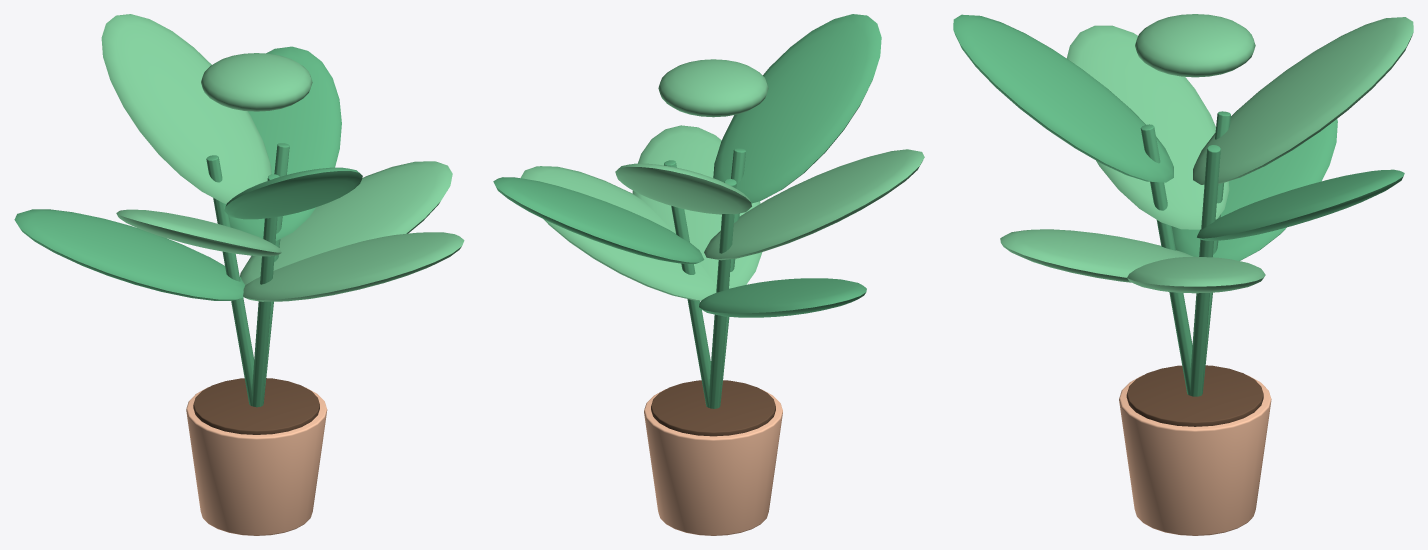
File: plant_tall.glb
3 renders of one model, left to right at view 1: azimuth 30°, elevation 25°; view 2: azimuth 150°, elevation 25°; view 3: azimuth 270°, elevation 25°, orthographic. The views are drawn at different scales.
Visible parts, largest first — view 1: plant_tall; view 2: plant_tall; view 3: plant_tall.
Part boxes in pixels (x1,y1,x2,y2): plant_tall: (14,14,464,535); plant_tall: (493,14,924,535); plant_tall: (953,14,1413,535).
Bounding box in the file's own units: 2.38 × 2.66 × 2.29.
